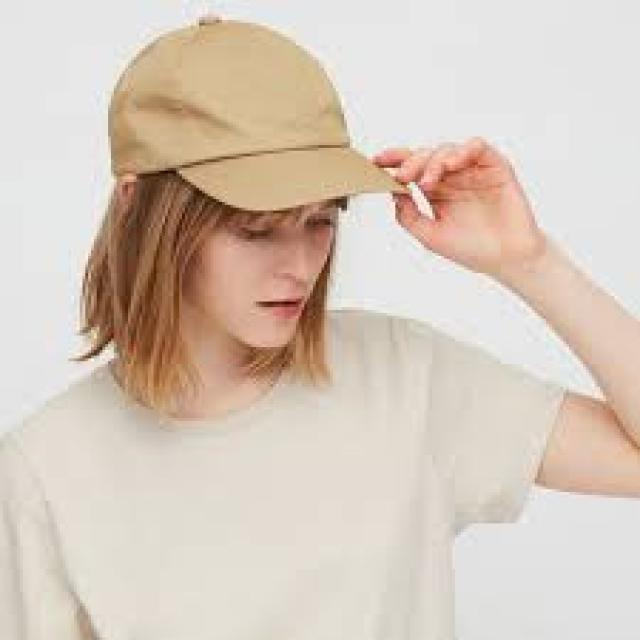cap: (73, 0, 473, 242)
